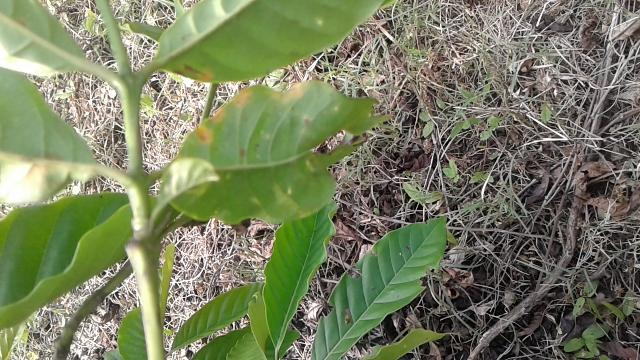rust_level_3: (156, 78, 374, 224)
